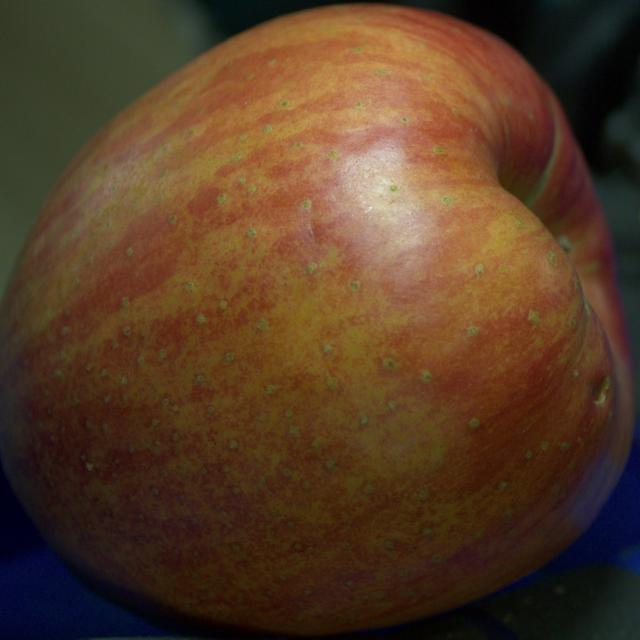apple: (0, 5, 634, 634)
pest: (594, 376, 611, 404)
